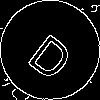D: (25, 25, 82, 83)
